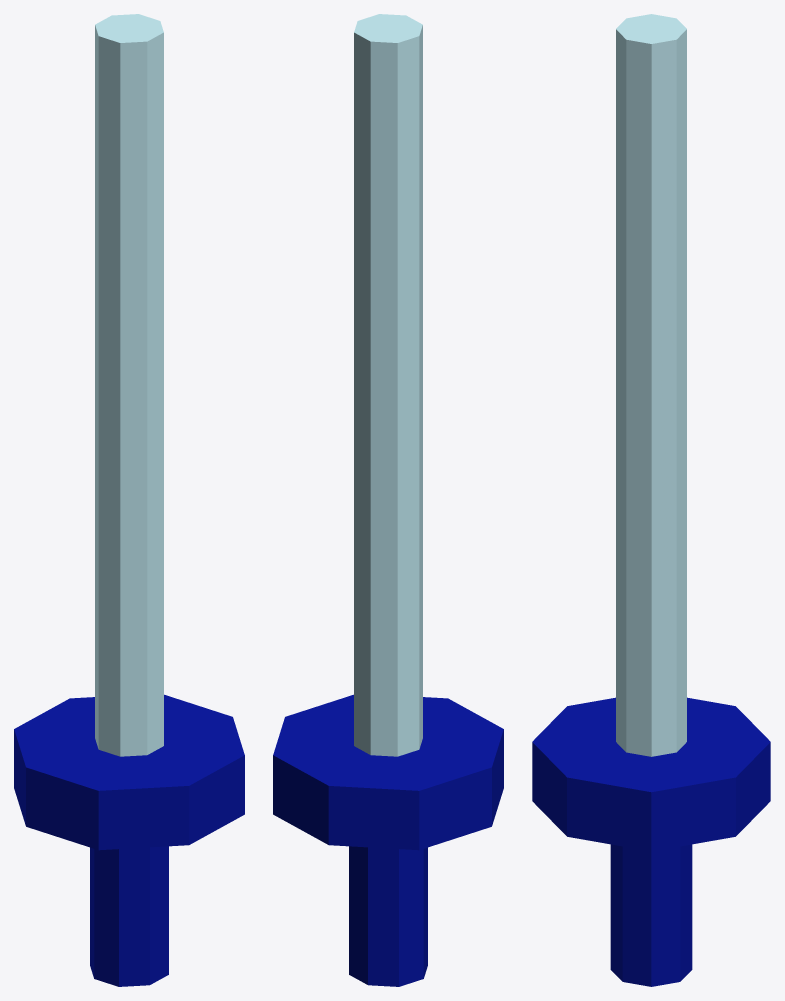
File: Sword.fbx
3 views of the same model, side by side, from view 1: azimuth 30°, elevation 25°; view 2: azimuth 150°, elevation 25°; view 3: azimuth 270°, elevation 25° (orthographic).
Parts seen in each view (by area): view 1: Cylinder; view 2: Cylinder; view 3: Cylinder.
Part boxes in pixels (<box>): Cylinder: <box>14,14,244,986</box>; Cylinder: <box>273,14,503,986</box>; Cylinder: <box>532,14,770,986</box>.
Bounding box in the file's own units: 54.02 × 235 × 54.02.
